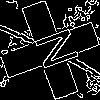N: (25, 25, 80, 75)
